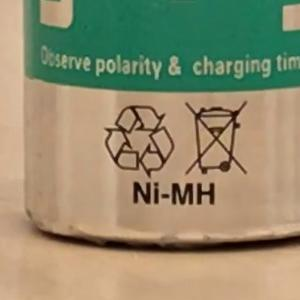keyword: (123, 172, 225, 215)
